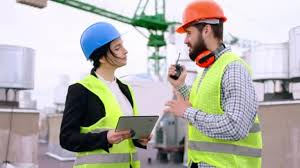casque: (46, 1, 247, 99)
